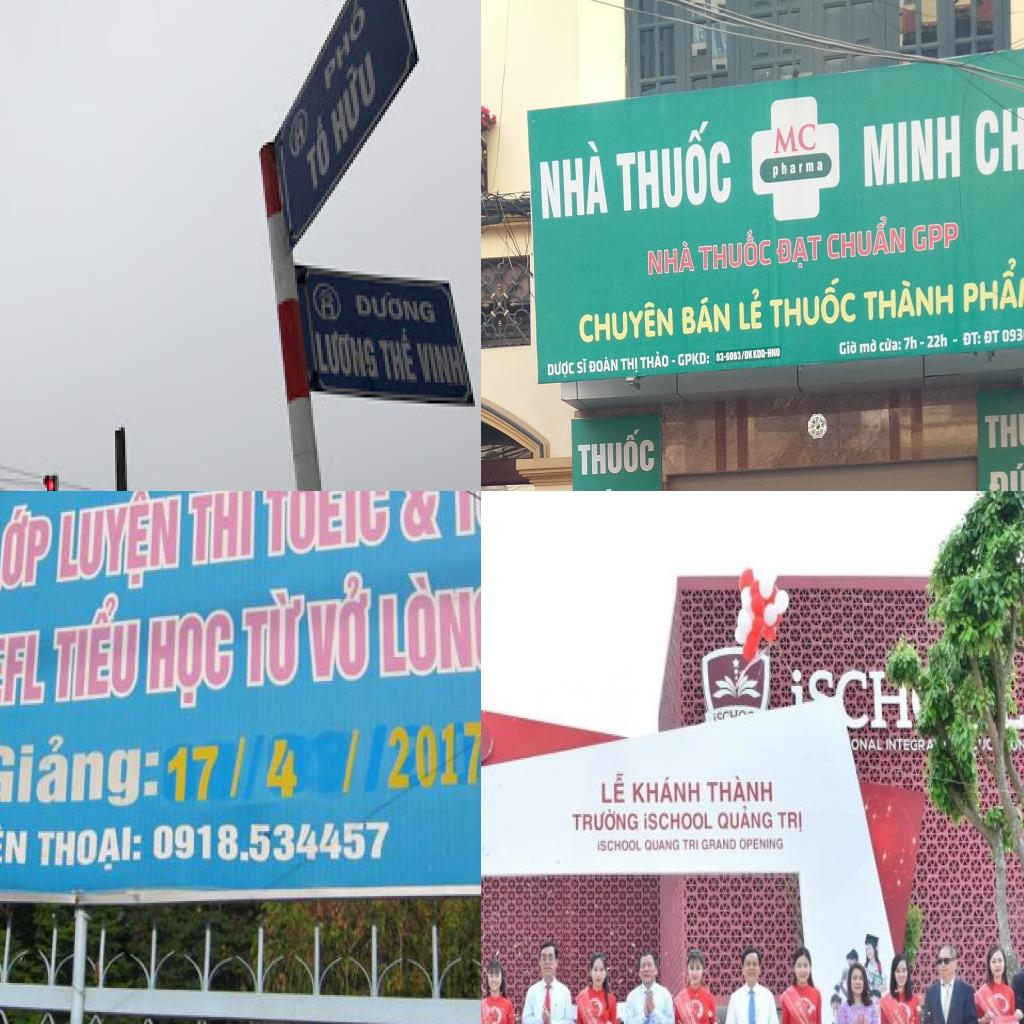text: (53, 491, 185, 600), (0, 728, 162, 814), (611, 114, 734, 213), (377, 563, 481, 677), (51, 589, 144, 705), (146, 608, 238, 714), (261, 491, 392, 559), (857, 111, 962, 188), (308, 572, 376, 688), (236, 582, 306, 691), (327, 37, 381, 163), (386, 720, 481, 791), (534, 136, 608, 220), (35, 824, 148, 876), (186, 491, 256, 568), (968, 82, 1024, 178), (0, 496, 55, 592), (834, 668, 914, 734), (767, 276, 858, 330), (578, 297, 676, 346), (863, 273, 955, 321), (323, 0, 369, 94), (576, 427, 657, 479), (824, 213, 908, 263), (165, 740, 226, 806), (0, 629, 45, 716), (313, 328, 383, 382), (962, 255, 1024, 314), (694, 227, 771, 272), (353, 286, 439, 326), (303, 112, 335, 196), (377, 326, 419, 386), (264, 735, 300, 804), (705, 772, 775, 806), (678, 292, 730, 337), (632, 774, 703, 806), (982, 397, 1024, 450), (399, 491, 440, 544), (642, 240, 696, 278), (570, 806, 640, 835), (776, 231, 824, 271), (770, 121, 818, 159), (910, 220, 960, 255), (716, 803, 774, 833), (0, 822, 32, 875), (643, 811, 716, 833), (338, 730, 360, 799), (227, 736, 248, 802), (986, 460, 1024, 491), (737, 286, 763, 331), (715, 347, 781, 364), (599, 769, 627, 806), (738, 836, 785, 854), (883, 736, 928, 754), (775, 810, 805, 836), (596, 838, 644, 854), (546, 358, 576, 382), (701, 836, 738, 854), (638, 349, 668, 370), (850, 737, 885, 755), (643, 838, 681, 854), (588, 354, 618, 374), (677, 350, 710, 368), (878, 336, 902, 353), (838, 337, 857, 358), (926, 332, 948, 350), (1001, 326, 1024, 343), (858, 336, 878, 355), (620, 355, 638, 376), (962, 330, 982, 348), (682, 836, 700, 854), (984, 328, 1000, 347), (903, 334, 918, 352), (576, 356, 587, 376), (770, 163, 780, 180), (993, 1019, 1024, 1024), (805, 159, 815, 172), (780, 160, 788, 176), (816, 159, 824, 172), (789, 163, 796, 174), (799, 162, 804, 174)
